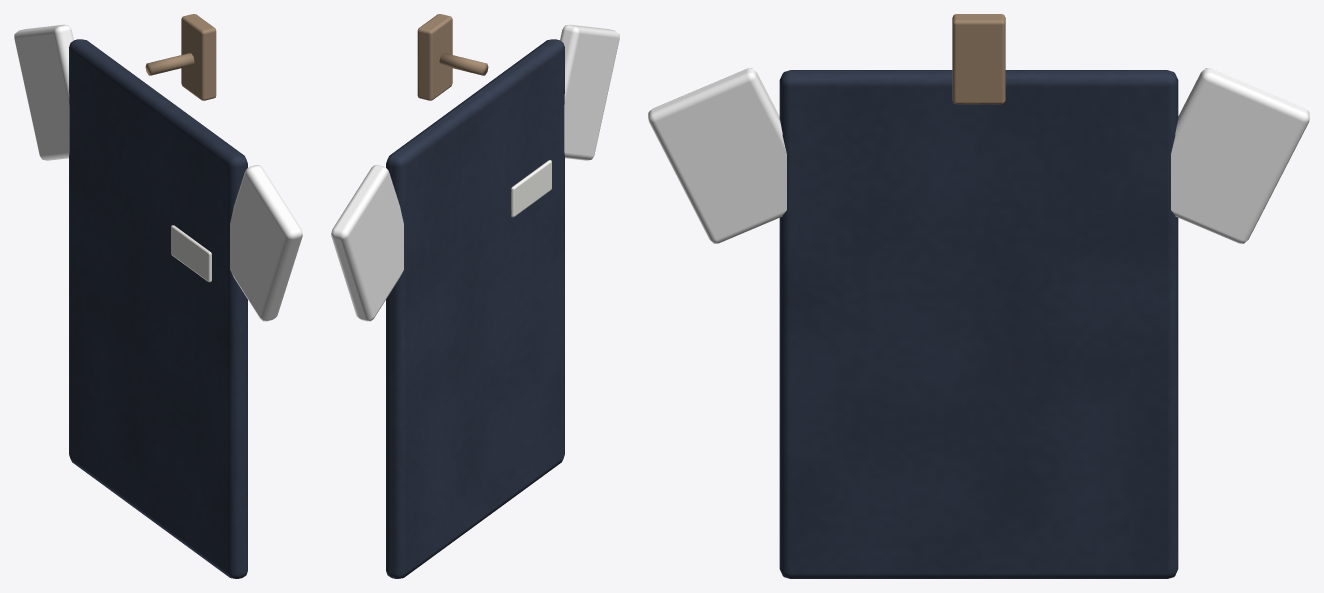
File: escena.casa.polera_tienda.fbx
3 renders of one model, left to right at view 1: azimuth 30°, elevation 25°; view 2: azimuth 150°, elevation 25°; view 3: azimuth 270°, elevation 25°, orthographic. The views are drawn at different scales.
Visible parts, largest first — view 1: polera_tienda, Manga.001, Manga, Placa del gancho, Piocha, Gancho; view 2: polera_tienda, Manga, Manga.001, Placa del gancho, Piocha, Gancho; view 3: polera_tienda, Manga, Manga.001, Placa del gancho.
Boxes of the visible parts, x1=… form: polera_tienda: x1=69, y1=39, x2=247, y2=578; Manga.001: x1=230, y1=165, x2=302, y2=321; Manga: x1=14, y1=24, x2=73, y2=160; Placa del gancho: x1=181, y1=14, x2=216, y2=100; Piocha: x1=171, y1=225, x2=211, y2=282; Gancho: x1=145, y1=53, x2=194, y2=75; polera_tienda: x1=386, y1=39, x2=564, y2=578; Manga: x1=331, y1=165, x2=403, y2=321; Manga.001: x1=560, y1=24, x2=619, y2=160; Placa del gancho: x1=417, y1=14, x2=452, y2=100; Piocha: x1=511, y1=160, x2=551, y2=217; Gancho: x1=439, y1=53, x2=488, y2=75; polera_tienda: x1=779, y1=70, x2=1178, y2=578; Manga: x1=1171, y1=68, x2=1309, y2=243; Manga.001: x1=648, y1=68, x2=786, y2=243; Placa del gancho: x1=952, y1=14, x2=1005, y2=104.
Size of the model in its own units: 0.064 by 0.485 by 0.4976.
4 materials, 1 textured.
